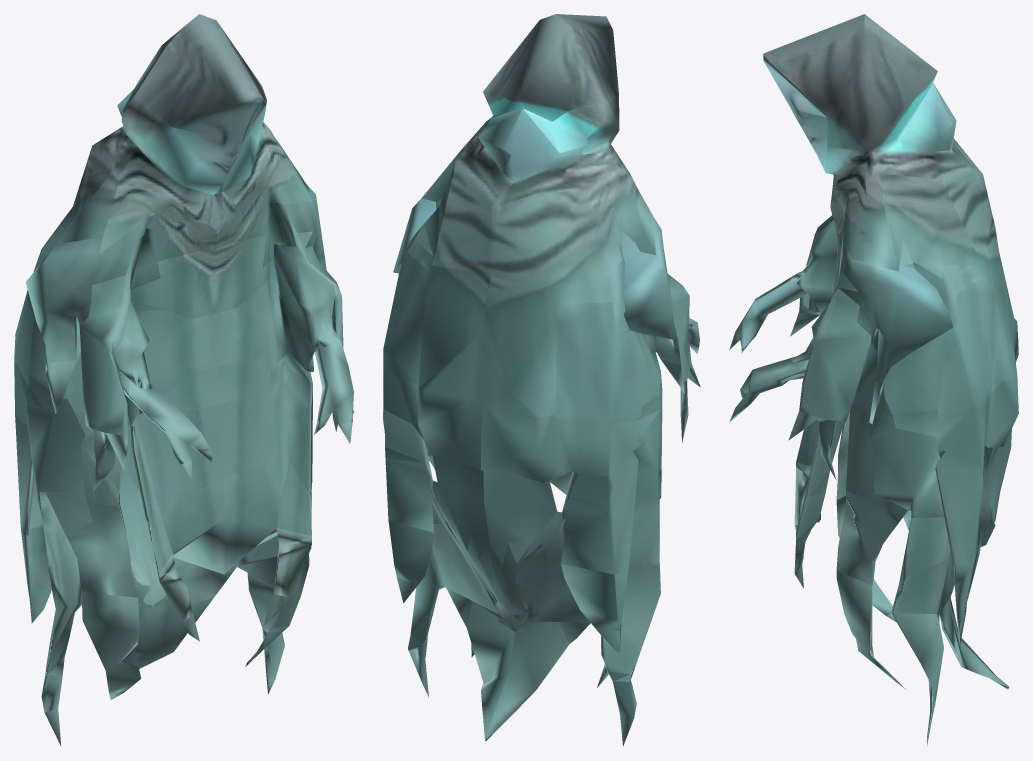
Rendered from ghost.glb.
3 views of the same model, side by side, from view 1: azimuth 30°, elevation 25°; view 2: azimuth 150°, elevation 25°; view 3: azimuth 270°, elevation 25° (orthographic). The views are drawn at different scales.
Bounding box in the file's own units: 0.7828 × 1.91 × 0.728.
1 material, 1 textured.
